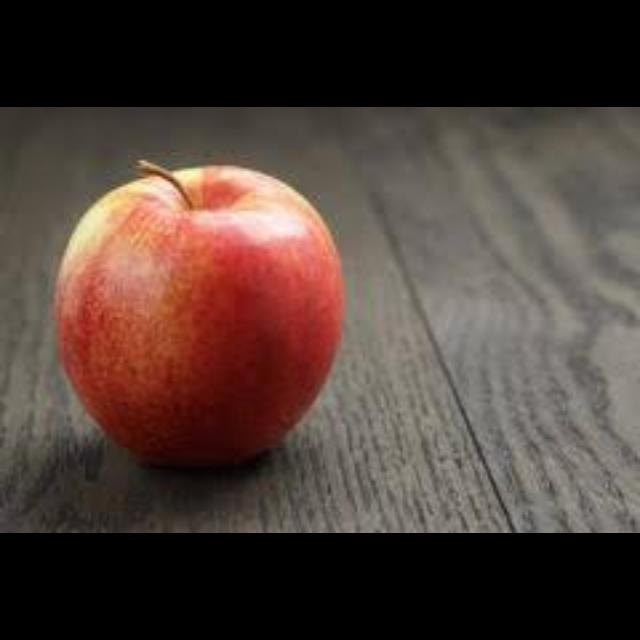apple: (53, 160, 344, 464)
